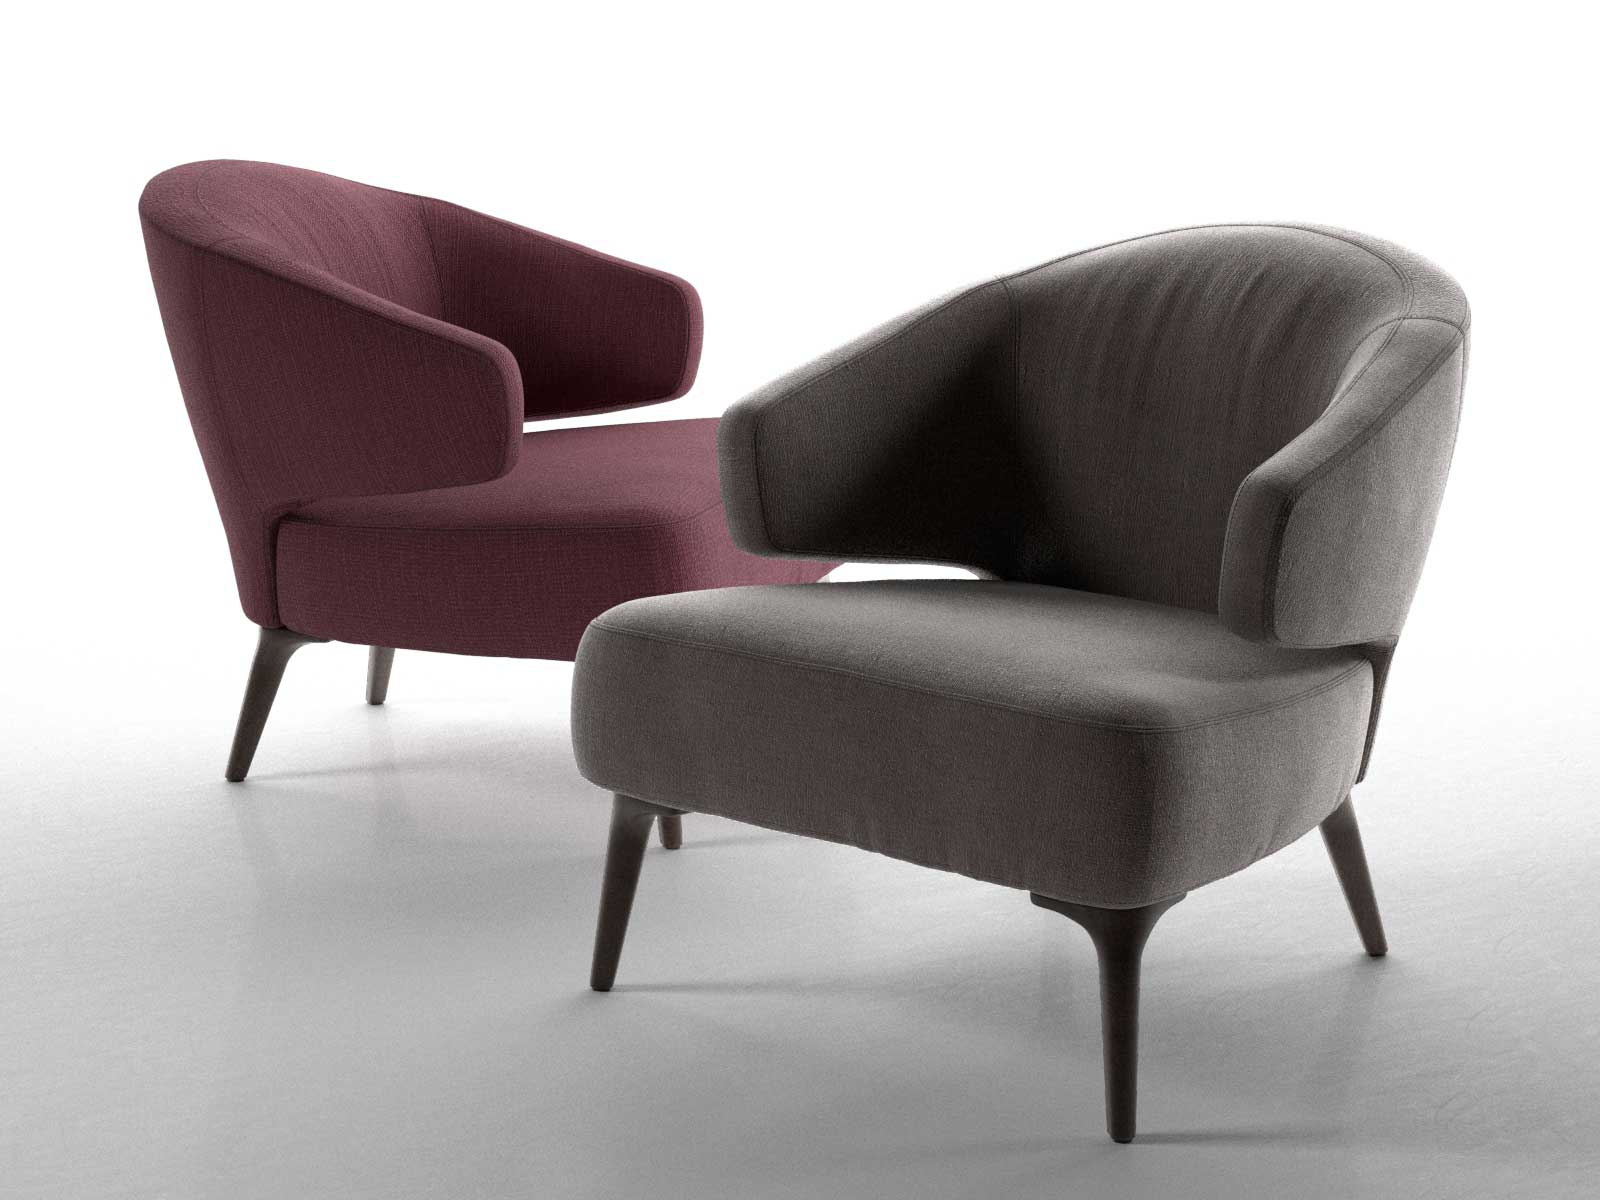chairs: (567, 216, 1473, 1150), (134, 147, 857, 848)
